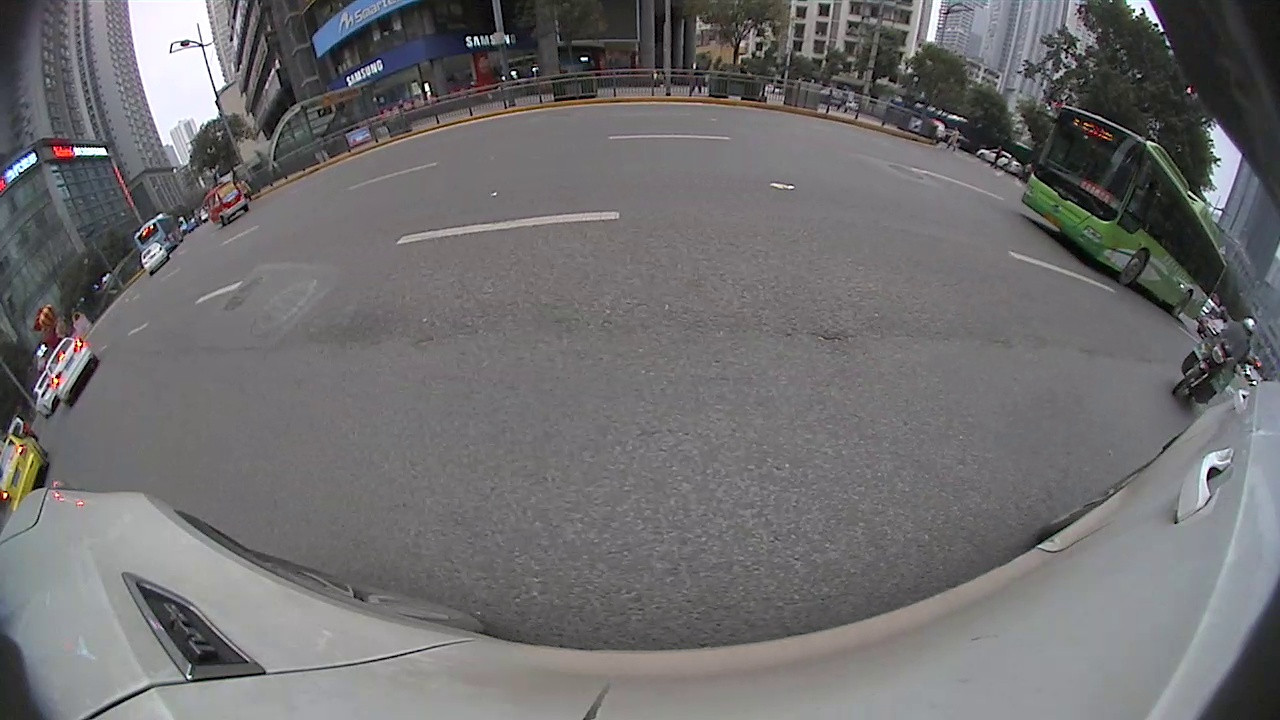bus: (1020, 103, 1226, 325), (133, 212, 183, 258)
car: (46, 335, 101, 409), (1, 431, 47, 516), (31, 369, 58, 419), (141, 242, 170, 273)
front: (1117, 247, 1153, 286)
rear: (1169, 288, 1195, 322), (219, 211, 232, 230)
rider: (1170, 317, 1258, 401), (205, 184, 249, 226)
